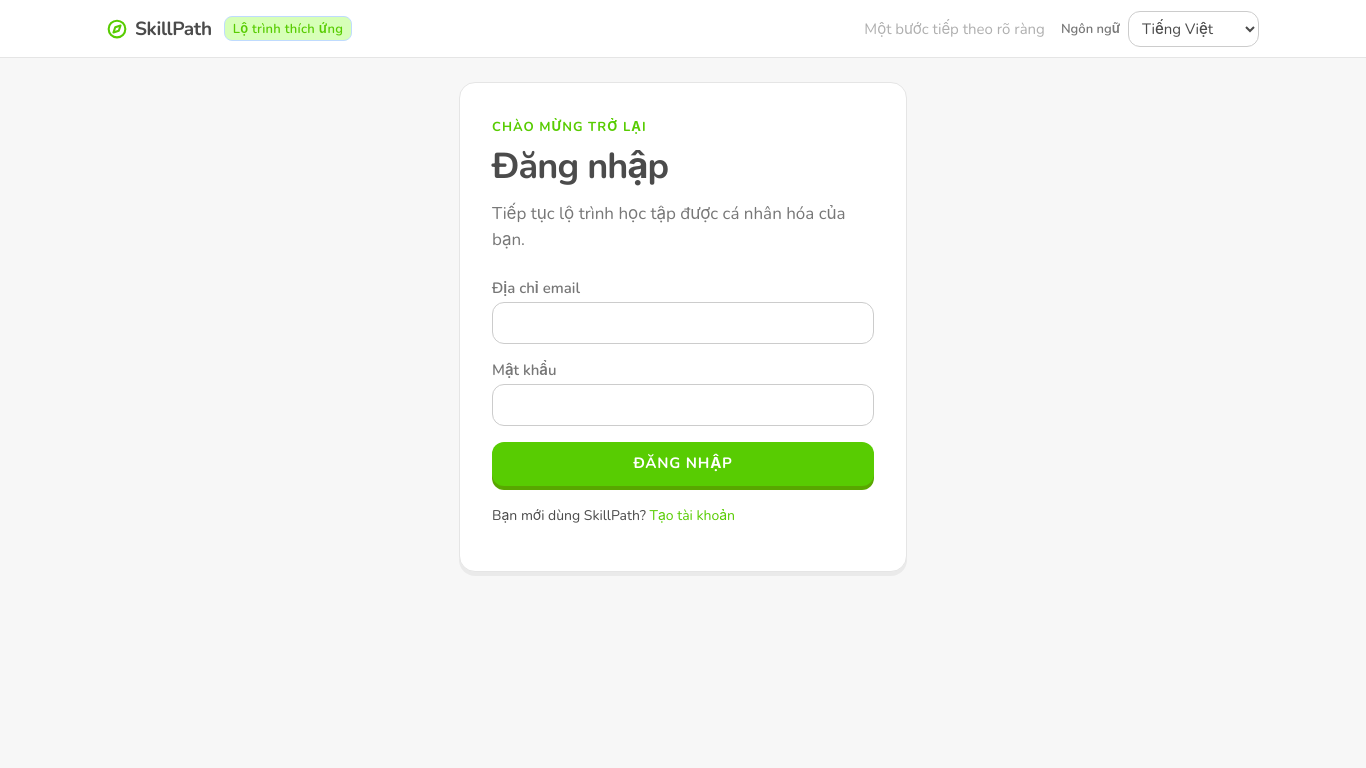
Scenario: App › defaults to Vietnamese and persists an English selection
The width and height of the screenshot is (1366, 768).
Expected: the link "SkillPath" is shown, x1=107 y1=16 x2=212 y2=42
Expected: the heading "Đăng nhập" is shown, x1=492 y1=142 x2=668 y2=191
Select "English" in the dropdown labelled "Ngôn ngữ" at (1194,28), box x1=1128 y1=10 x2=1259 y2=46
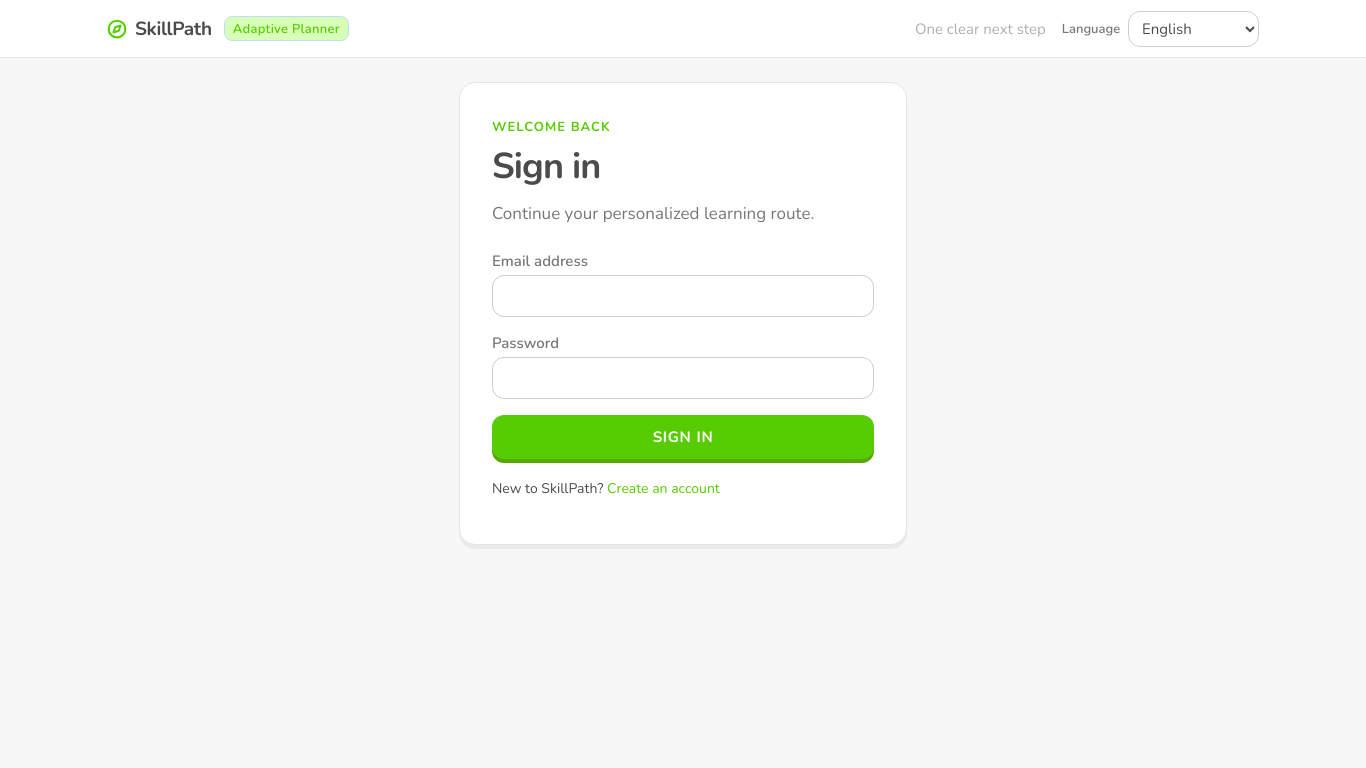
Now the heading "Sign in" is shown, box x1=492 y1=142 x2=600 y2=191
